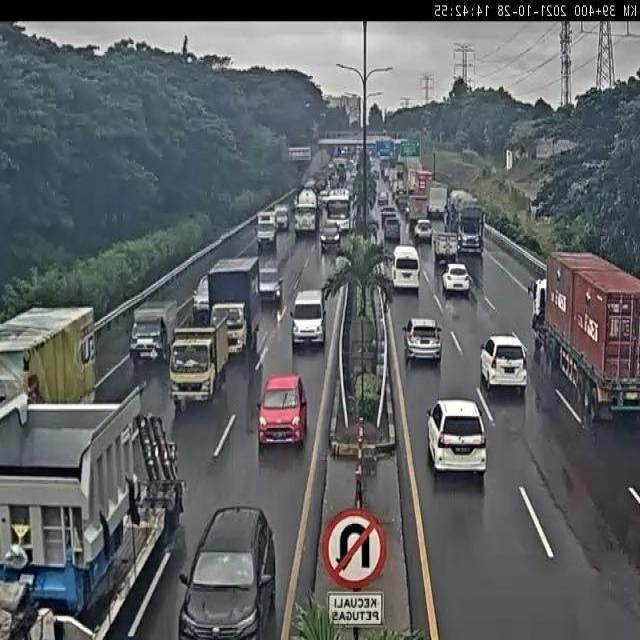Car: (177, 501, 275, 640), (426, 400, 490, 478), (256, 372, 310, 453), (480, 335, 528, 394), (288, 289, 326, 348), (404, 316, 444, 367), (442, 264, 471, 295)
Truck: (0, 391, 186, 640), (529, 250, 640, 406), (208, 254, 262, 352)
